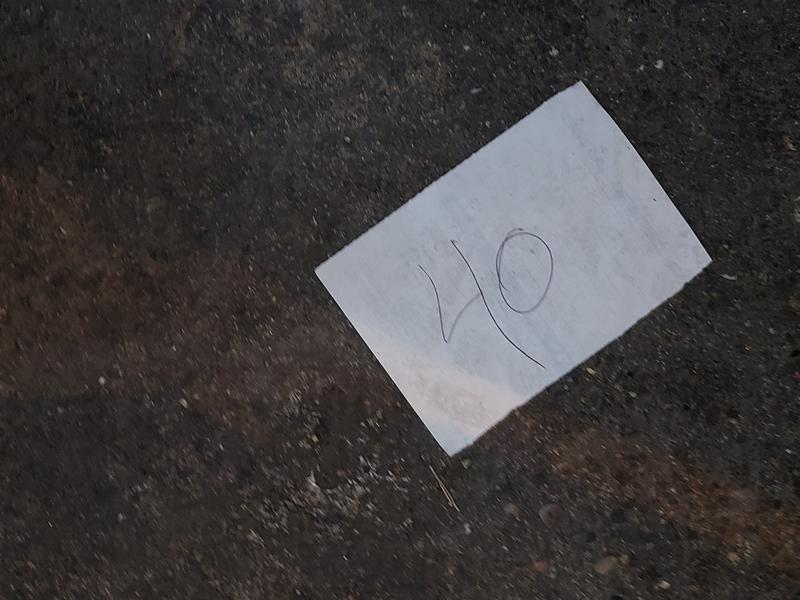papel: (312, 83, 711, 457)
